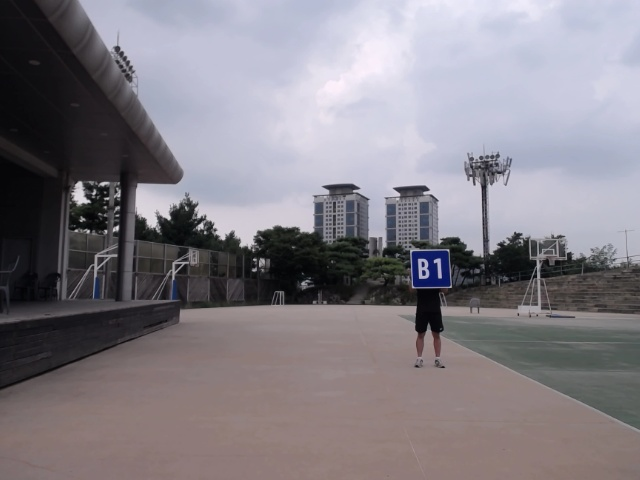delivery_b1: (410, 249, 452, 288)
